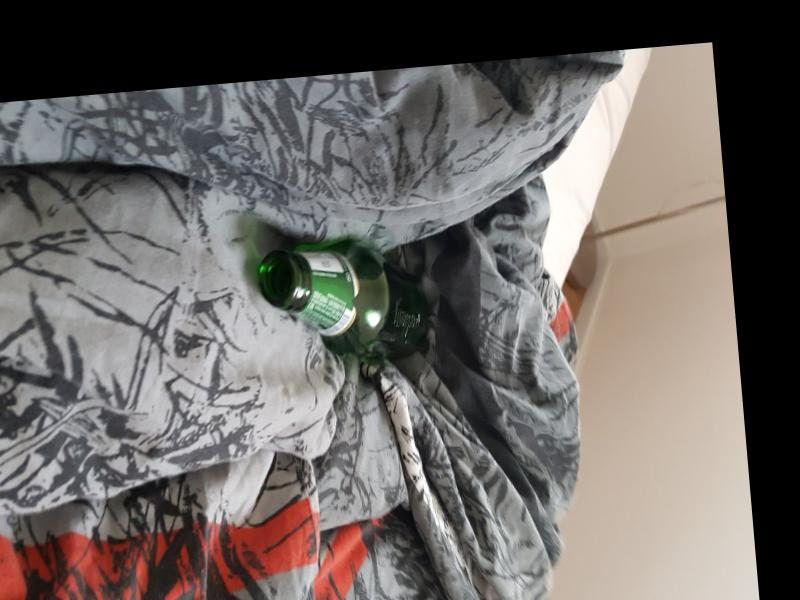Beer: (254, 232, 434, 369)
